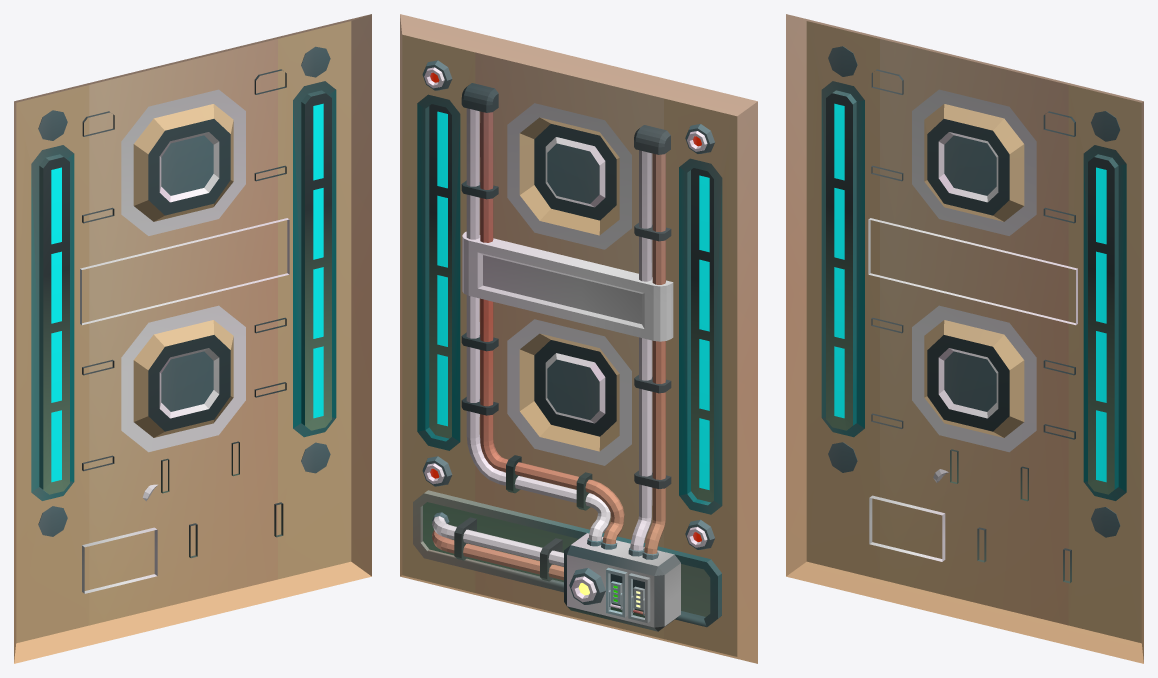
File: C_Wall_1.fbx
3 renders of one model, left to right at view 1: azimuth 30°, elevation 25°; view 2: azimuth 150°, elevation 25°; view 3: azimuth 330°, elevation 25°, orthographic.
Visible parts, largest first — view 1: C_Wall_1; view 2: C_Wall_1; view 3: C_Wall_1.
Part boxes in pixels (box(x1,y1,x2,y2)): C_Wall_1: box(14, 14, 371, 663); C_Wall_1: box(400, 14, 757, 663); C_Wall_1: box(786, 14, 1143, 663).
Size of the model in its own units: 1.32 by 0.2536 by 1.98.
